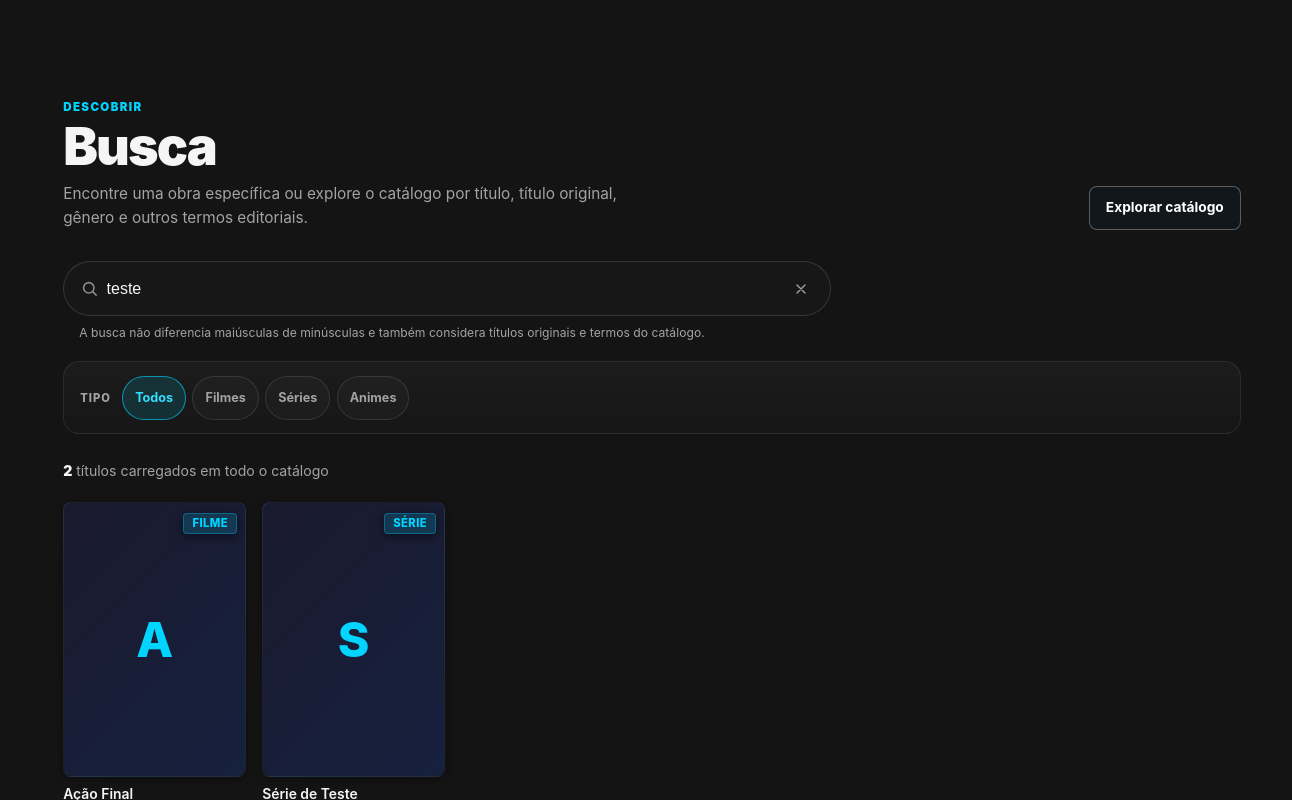
it: applies the type filter without losing the search term
Click the button "Filmes" at (226, 398), box [192, 376, 259, 420]
(page scrolled)
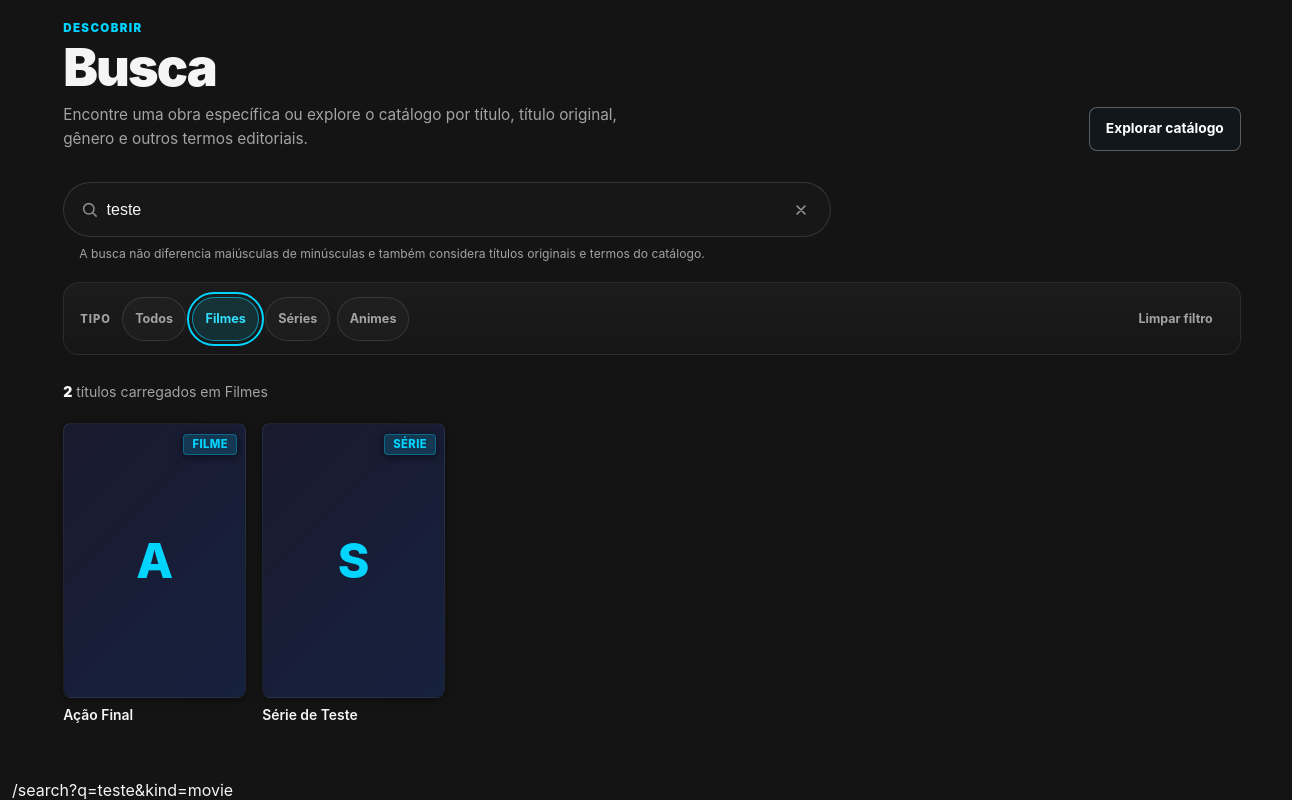
Expected: the text with test id "location" reads "/search?q=teste&kind=movie", [12, 780, 233, 799]
